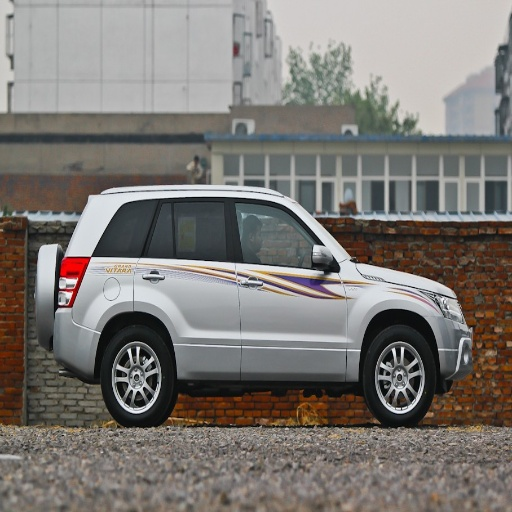back_right_door: (134, 198, 241, 378)
front_right_door: (233, 198, 348, 374)
trunk: (62, 292, 115, 366)
